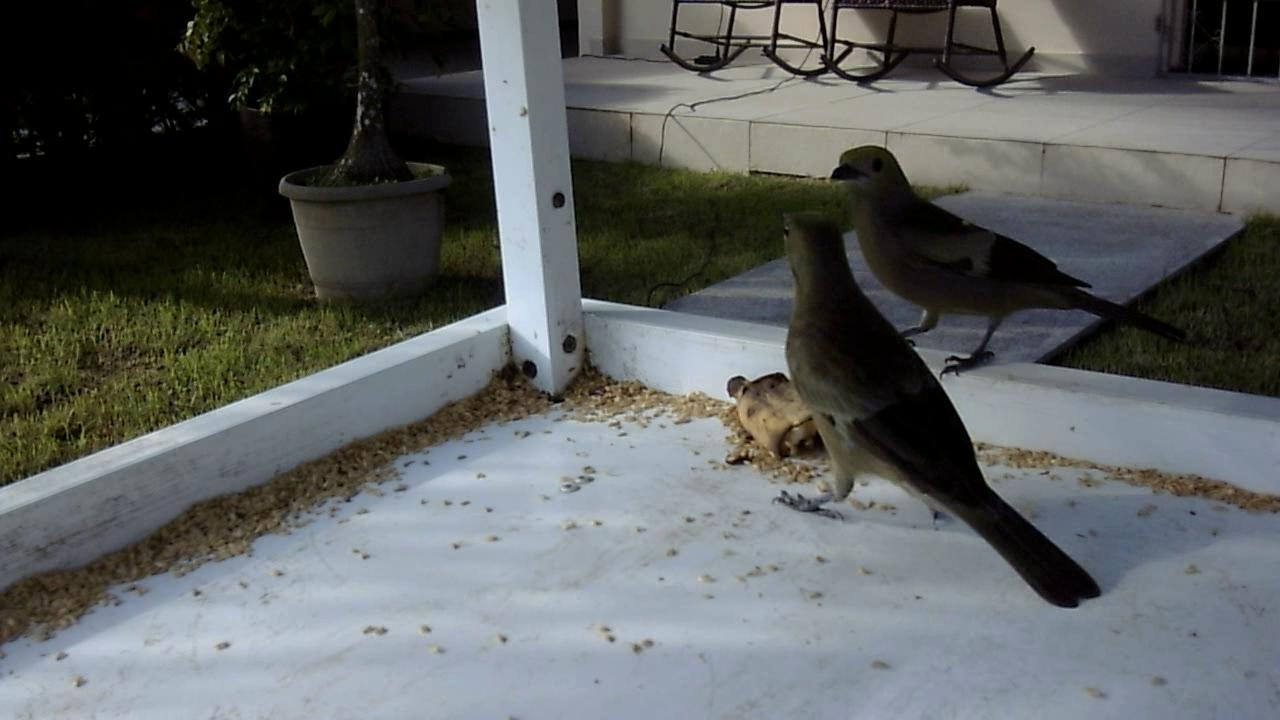sanhaco_do_coqueiro: (772, 207, 1107, 612), (827, 143, 1213, 380)
